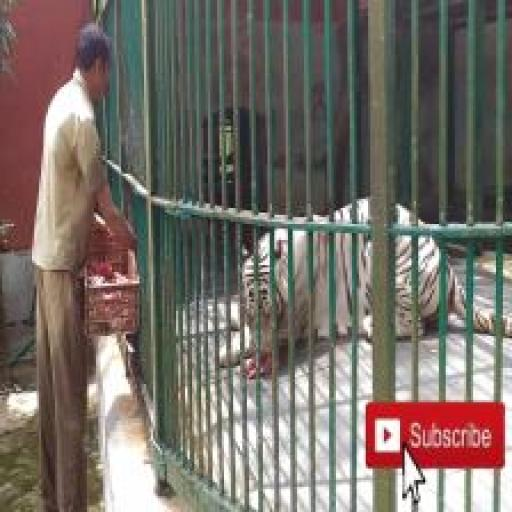Tiger: (217, 192, 512, 379)
